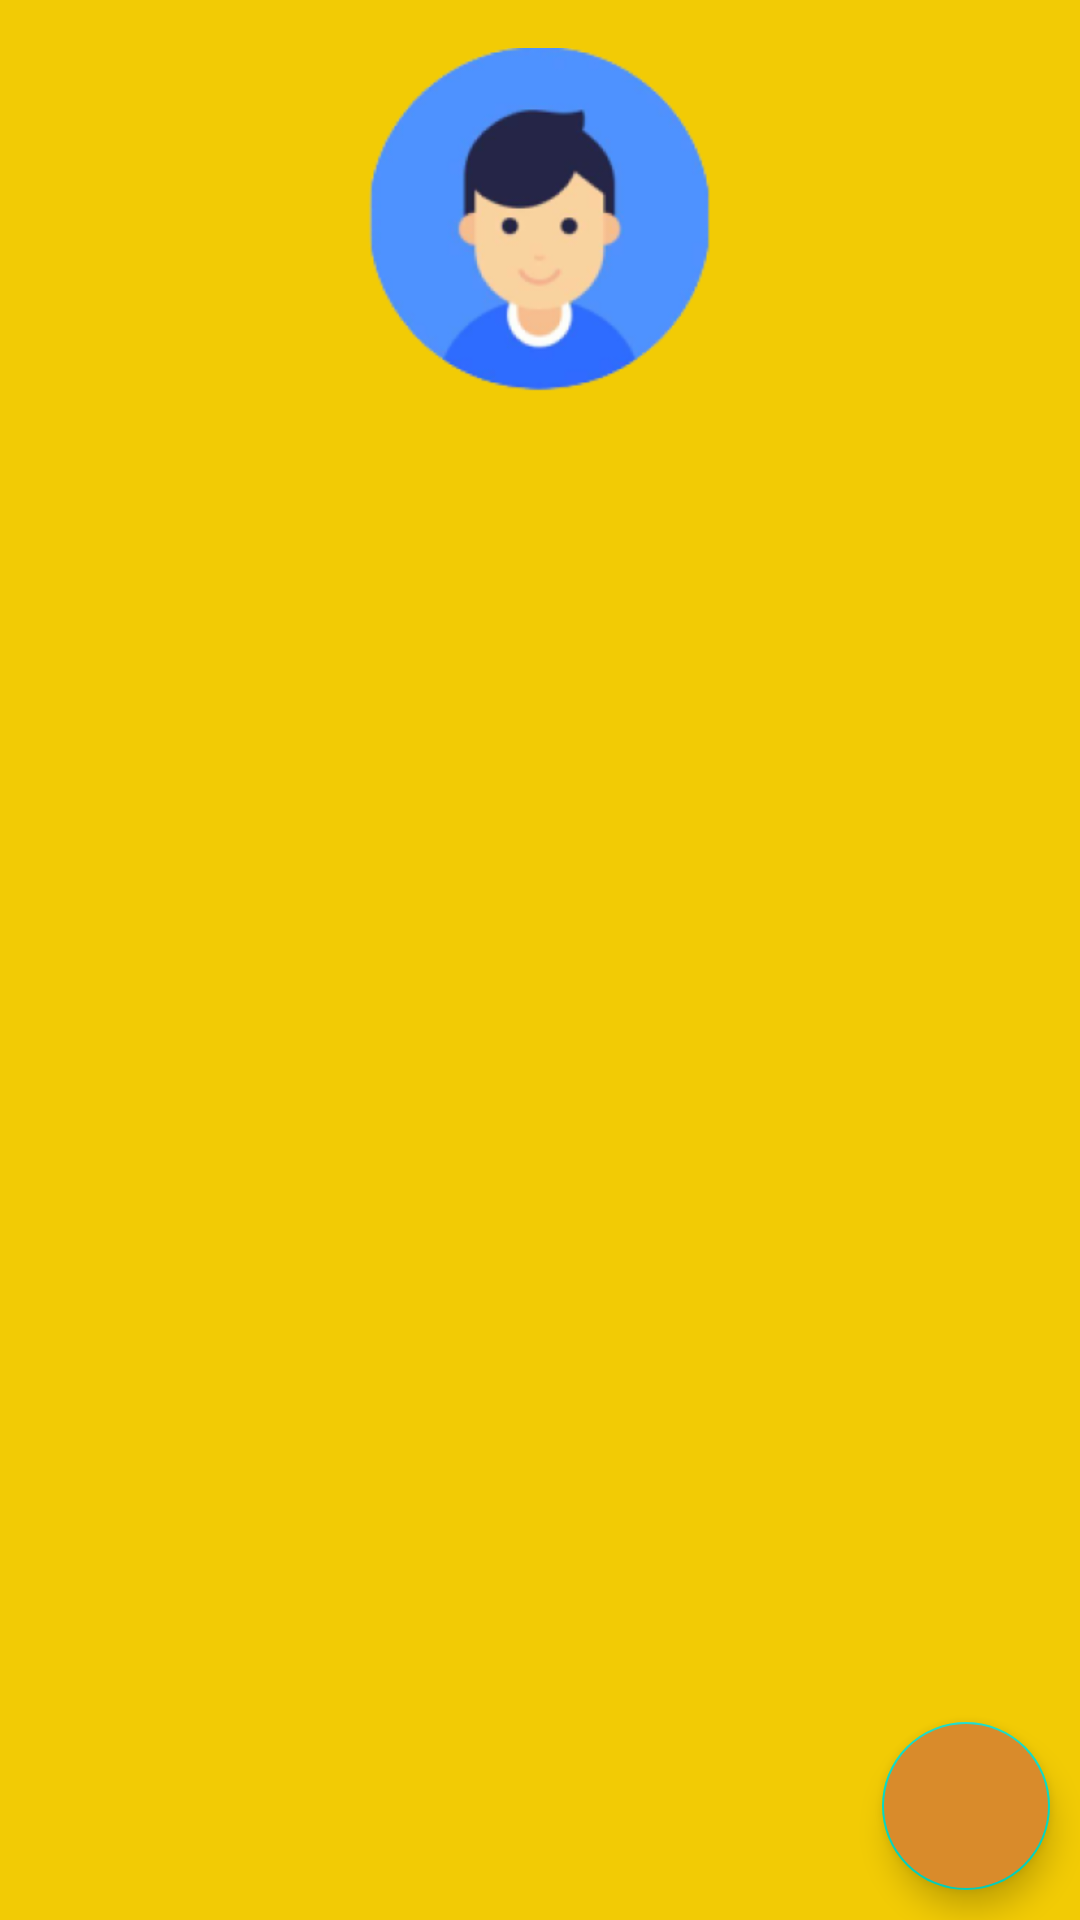

Point at icon controls on the screen. Image size 1080w x 1920h, points as [x,y].
avata: [539,219]
